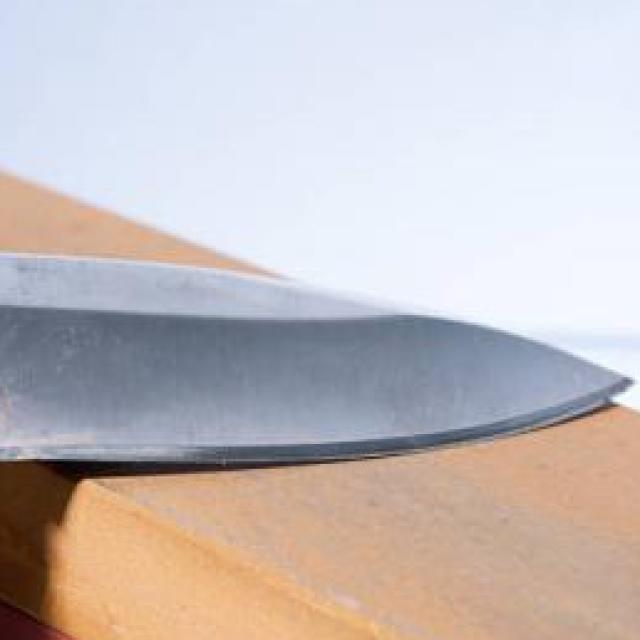knife: (0, 246, 640, 486)
